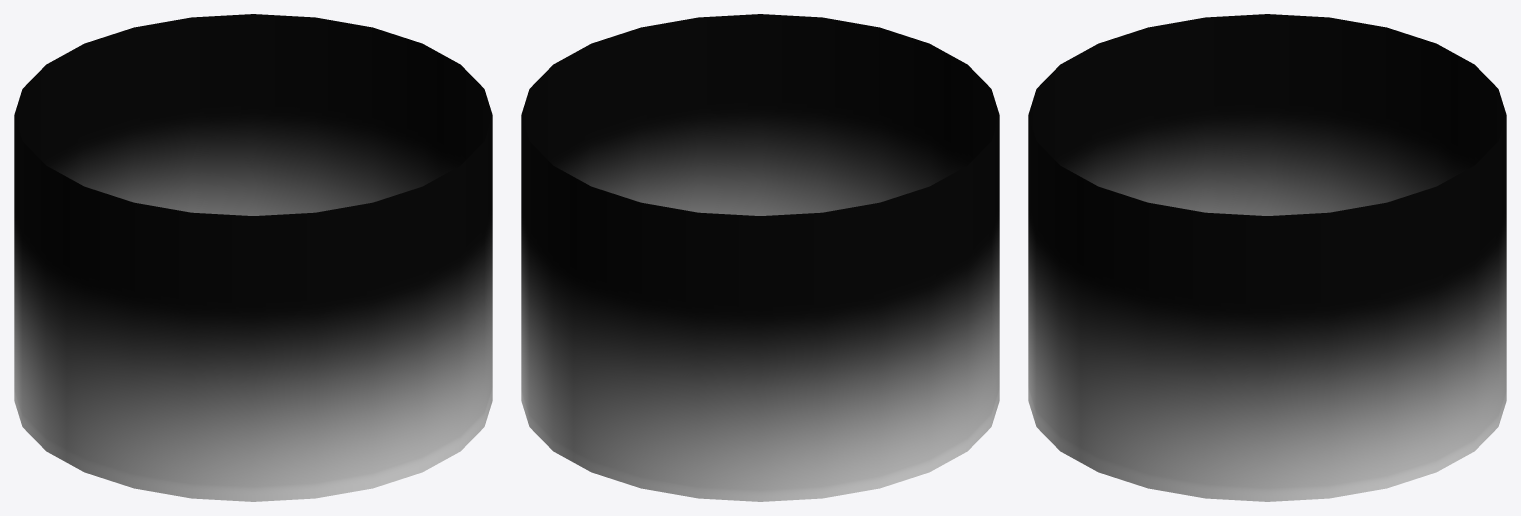
Rendered from Cilindro teletrasporto.glb.
3 views of the same model, side by side, from view 1: azimuth 30°, elevation 25°; view 2: azimuth 150°, elevation 25°; view 3: azimuth 270°, elevation 25° (orthographic).
Visible parts, largest first — view 1: Tubo_2; view 2: Tubo_2; view 3: Tubo_2.
Part boxes in pixels (x1,y1,x2,y2): Tubo_2: (14, 14, 492, 501); Tubo_2: (521, 14, 999, 501); Tubo_2: (1028, 14, 1506, 501).
Bounding box in the file's own units: 0.7583 × 0.5 × 0.7583.
Materials: 2 (1 with a texture image).
